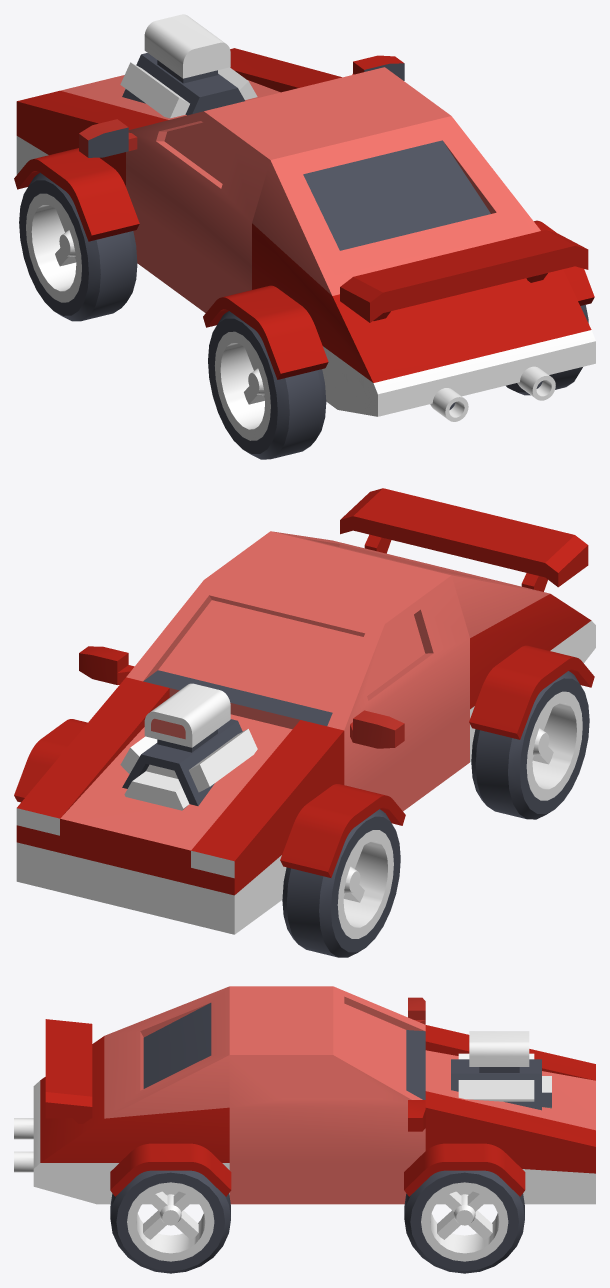
Rendered from Traffic Race Red.fbx.
The picture shows the model from 3 angles, top to bottom: view 1: azimuth 30°, elevation 25°; view 2: azimuth 150°, elevation 25°; view 3: azimuth 270°, elevation 25°; orthographic projection. The views are drawn at different scales.
Visible parts, largest first — view 1: trunk_smooth_126, windshield_default_121, wheel_smallSports_135, wheel_smallSports_134, detail_spoilerRound_130, hood_sleek_117, detail_engine_133, detail_fenderRounded_137, detail_fenderRounded_136, detail_mirror_131, detail_exhaust_142, detail_exhaust_143 (+3 smaller); view 2: windshield_default_121, hood_sleek_117, detail_spoilerRound_130, wheel_smallSports_134, wheel_smallSports_135, detail_engine_133, trunk_smooth_126, detail_fenderRounded_137, detail_fenderRounded_136, detail_fenderRounded_138, detail_mirror_131, detail_mirror_132; view 3: windshield_default_121, trunk_smooth_126, hood_sleek_117, wheel_smallSports_139, wheel_smallSports_140, detail_engine_133, detail_spoilerRound_130, detail_fenderRounded_138, detail_fenderRounded_141, detail_mirror_132, detail_exhaust_142, detail_exhaust_143 (+1 smaller).
Part boxes in pixels (x1,y1,x2,y2): trunk_smooth_126: (252,116,595,416); windshield_default_121: (126,67,450,313); wheel_smallSports_135: (208,311,326,459); wheel_smallSports_134: (19,172,137,321); detail_spoilerRound_130: (340,230,588,322); hood_sleek_117: (16,48,341,186); detail_engine_133: (120,14,257,118); detail_fenderRounded_137: (203,285,328,379); detail_fenderRounded_136: (14,148,139,241); detail_mirror_131: (79,119,137,157); detail_exhaust_142: (517,366,555,400); detail_exhaust_143: (430,388,468,421); windshield_default_121: (126,531,469,811); hood_sleek_117: (16,677,344,934); detail_spoilerRound_130: (340,488,588,591); wheel_smallSports_134: (282,809,400,957); wheel_smallSports_135: (471,671,589,819); detail_engine_133: (120,683,257,810); trunk_smooth_126: (273,531,595,762); detail_fenderRounded_137: (469,645,594,739); detail_fenderRounded_136: (280,784,405,877); detail_fenderRounded_138: (14,719,87,802); detail_mirror_131: (350,710,404,748); detail_mirror_132: (79,646,134,684); windshield_default_121: (229,986,425,1204); trunk_smooth_126: (33,986,229,1204); hood_sleek_117: (425,1025,595,1204); wheel_smallSports_139: (404,1170,524,1273); wheel_smallSports_140: (110,1170,230,1273); detail_engine_133: (451,1031,551,1110); detail_spoilerRound_130: (45,1019,92,1123); detail_fenderRounded_138: (404,1143,525,1196); detail_fenderRounded_141: (110,1143,231,1196); detail_mirror_132: (408,1100,425,1131); detail_exhaust_142: (14,1151,33,1172); detail_exhaust_143: (14,1118,33,1139).
Size of the model in its own units: 14.5 by 11.08 by 29.7.
